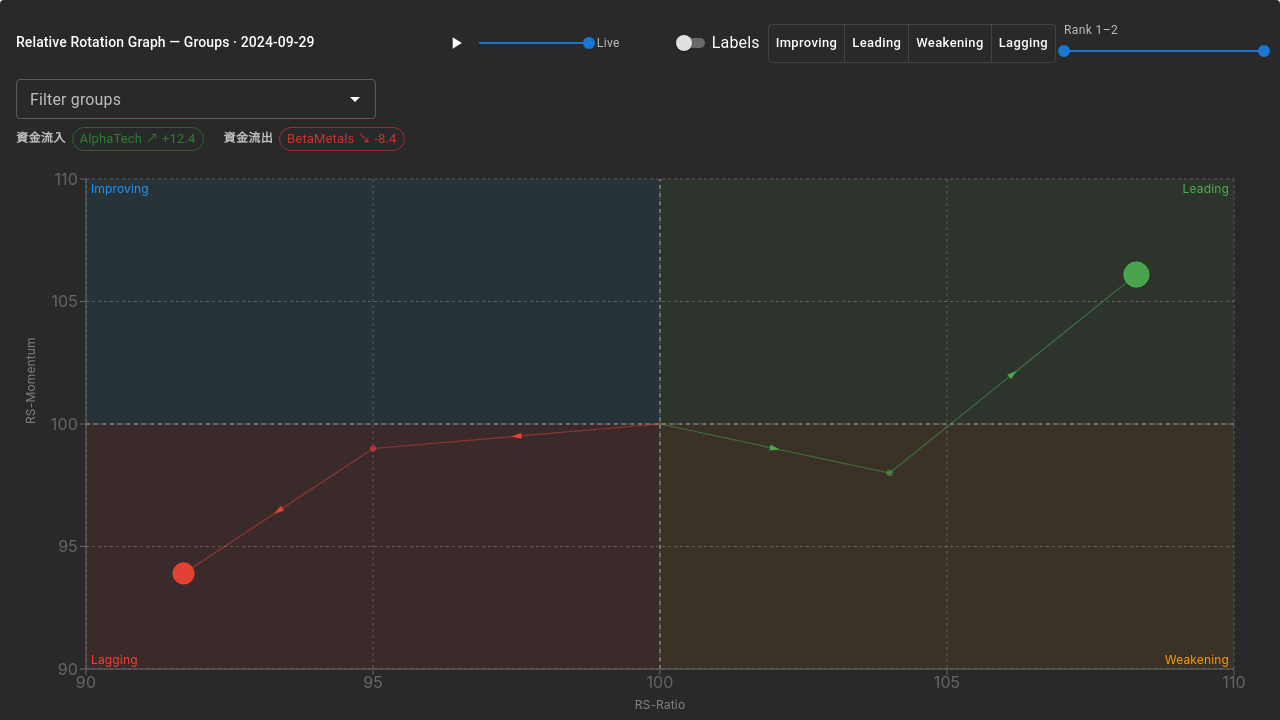
RRGChart rotation playback + money-flow strip › play button starts stepping frames from week 1
Click the button named "Play rotation playback". click: (456, 44)
box: left=441, top=28, right=471, bottom=58
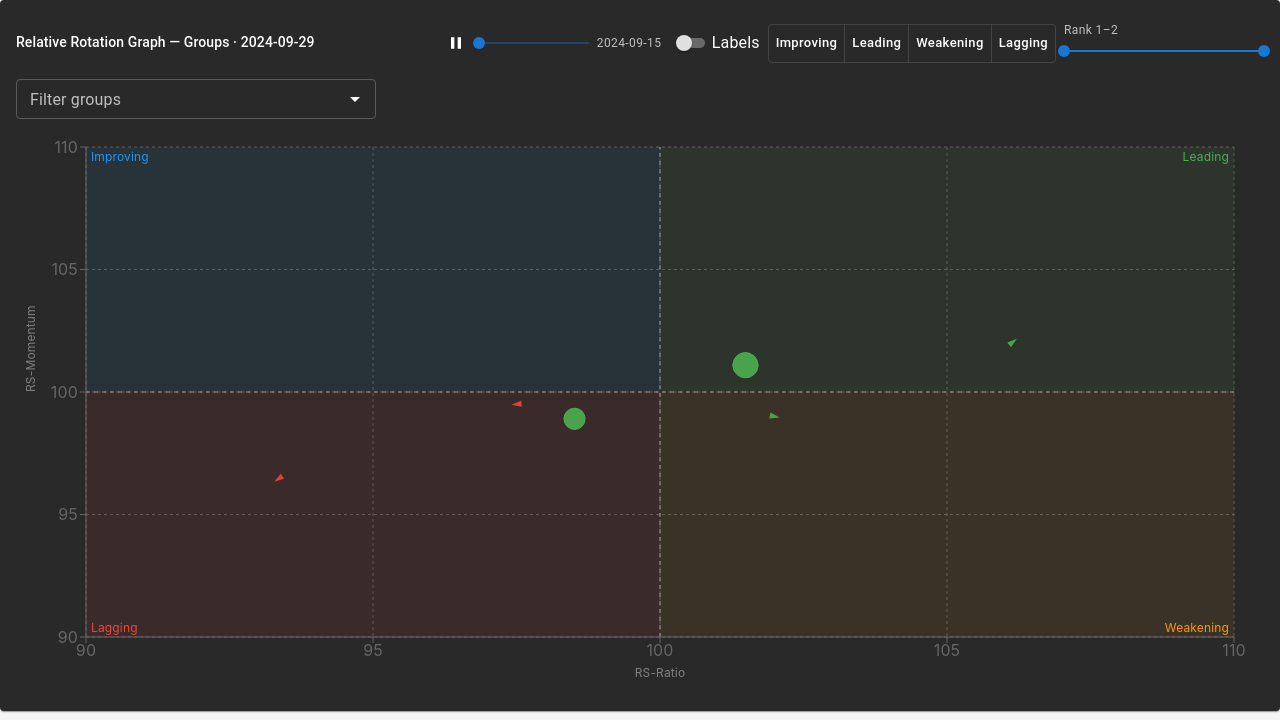
Result: the text "Live" is gone
Result: the button named "Pause rotation playback" is shown at left=441, top=28, right=471, bottom=58
